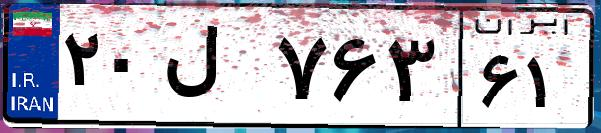0: (110, 28, 158, 98)
1: (525, 38, 570, 115)
2: (57, 26, 110, 100)
3: (385, 28, 445, 110)
6: (330, 28, 385, 110), (475, 38, 525, 113)
7: (270, 28, 330, 110)
ل: (158, 20, 270, 120)
